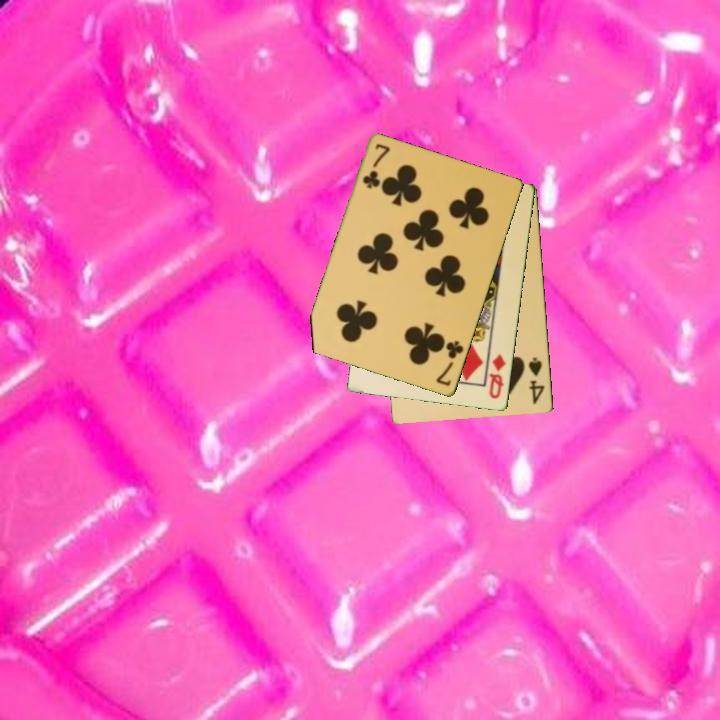4s: (525, 354, 548, 408)
7c: (359, 140, 393, 192), (433, 338, 467, 389)
Qd: (486, 351, 509, 402)
